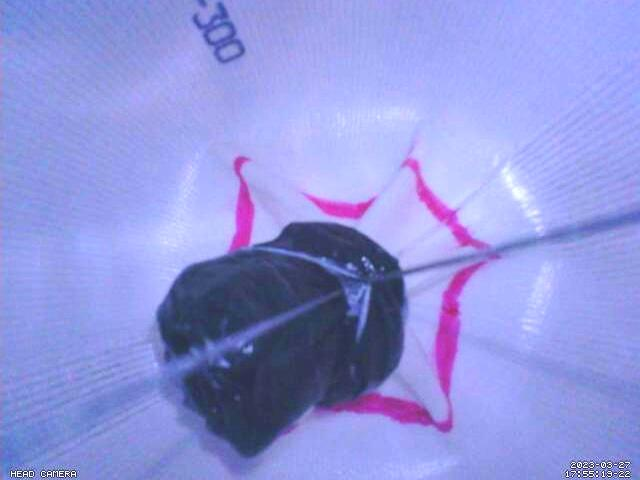red-circle: (230, 155, 498, 434)
